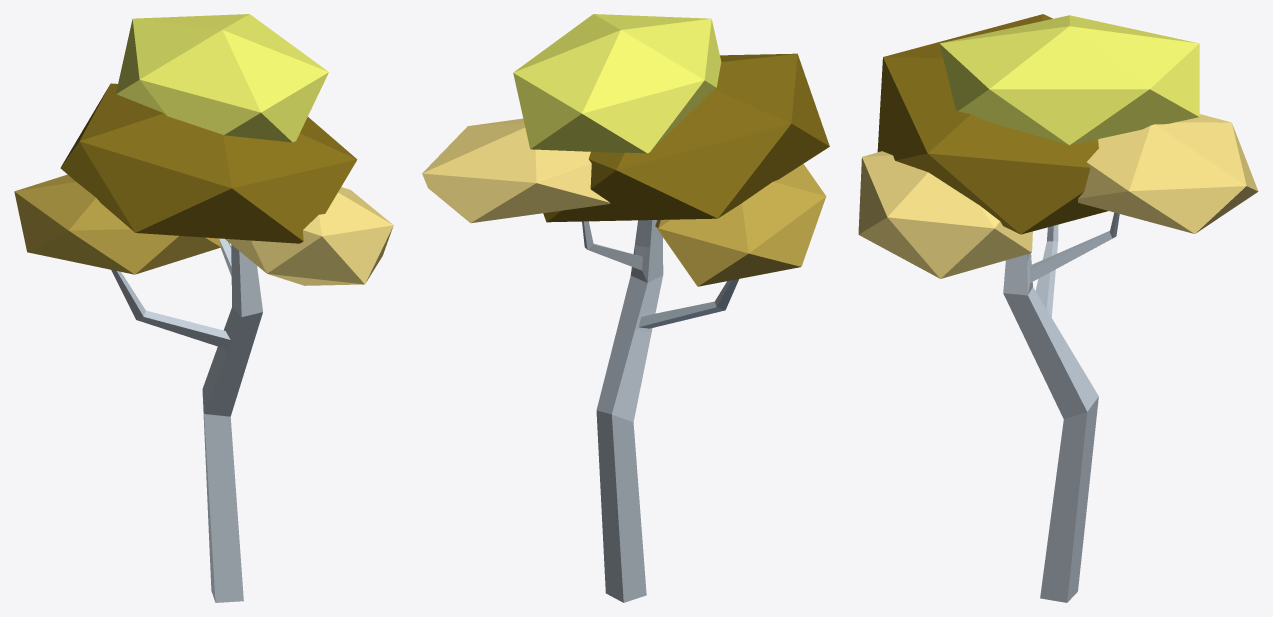
The model's file is TreeAutumn10_Alt1.fbx.
3 renders of one model, left to right at view 1: azimuth 30°, elevation 25°; view 2: azimuth 150°, elevation 25°; view 3: azimuth 270°, elevation 25°, orthographic.
Visible parts, largest first — view 1: TreeAutumn10_Alt1; view 2: TreeAutumn10_Alt1; view 3: TreeAutumn10_Alt1.
Boxes of the visible parts, x1,y1,x2,y2 form: TreeAutumn10_Alt1: (14, 14, 393, 602); TreeAutumn10_Alt1: (422, 14, 829, 602); TreeAutumn10_Alt1: (858, 14, 1258, 602).
Size of the model in its own units: 1 by 1.7 by 1.09.
